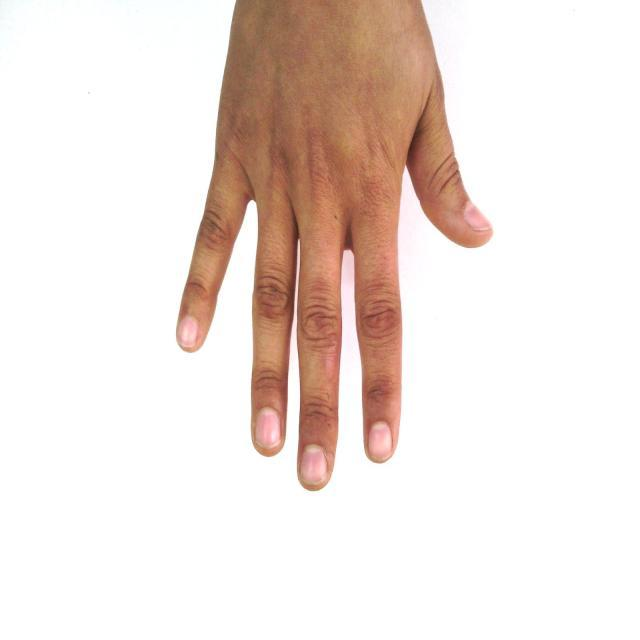Fingernail: (301, 446, 327, 487), (257, 408, 281, 446), (369, 422, 391, 460), (465, 203, 491, 230), (179, 317, 198, 347)
